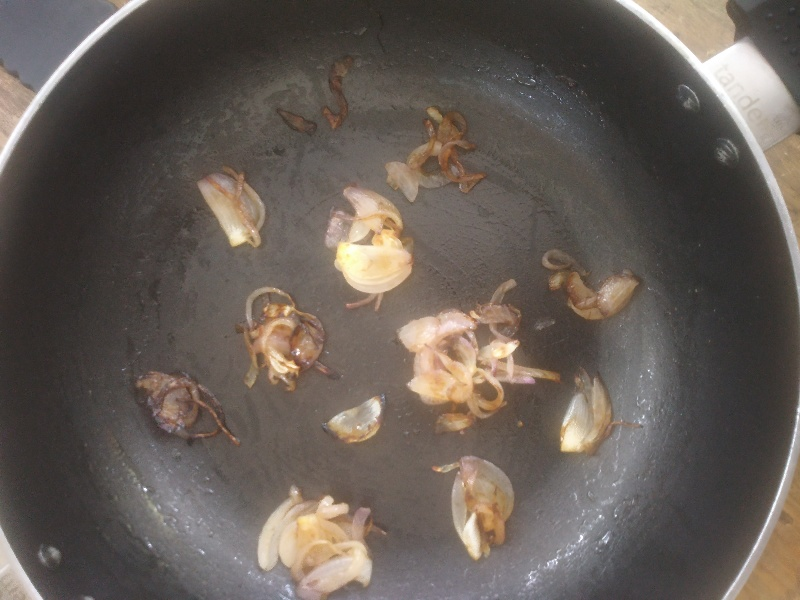onion_fried: (241, 286, 327, 392)
onion_golden: (405, 307, 534, 430), (323, 180, 412, 309), (385, 111, 488, 201), (448, 452, 518, 562), (545, 253, 640, 319), (200, 162, 269, 249), (284, 509, 358, 572), (560, 372, 613, 459)
